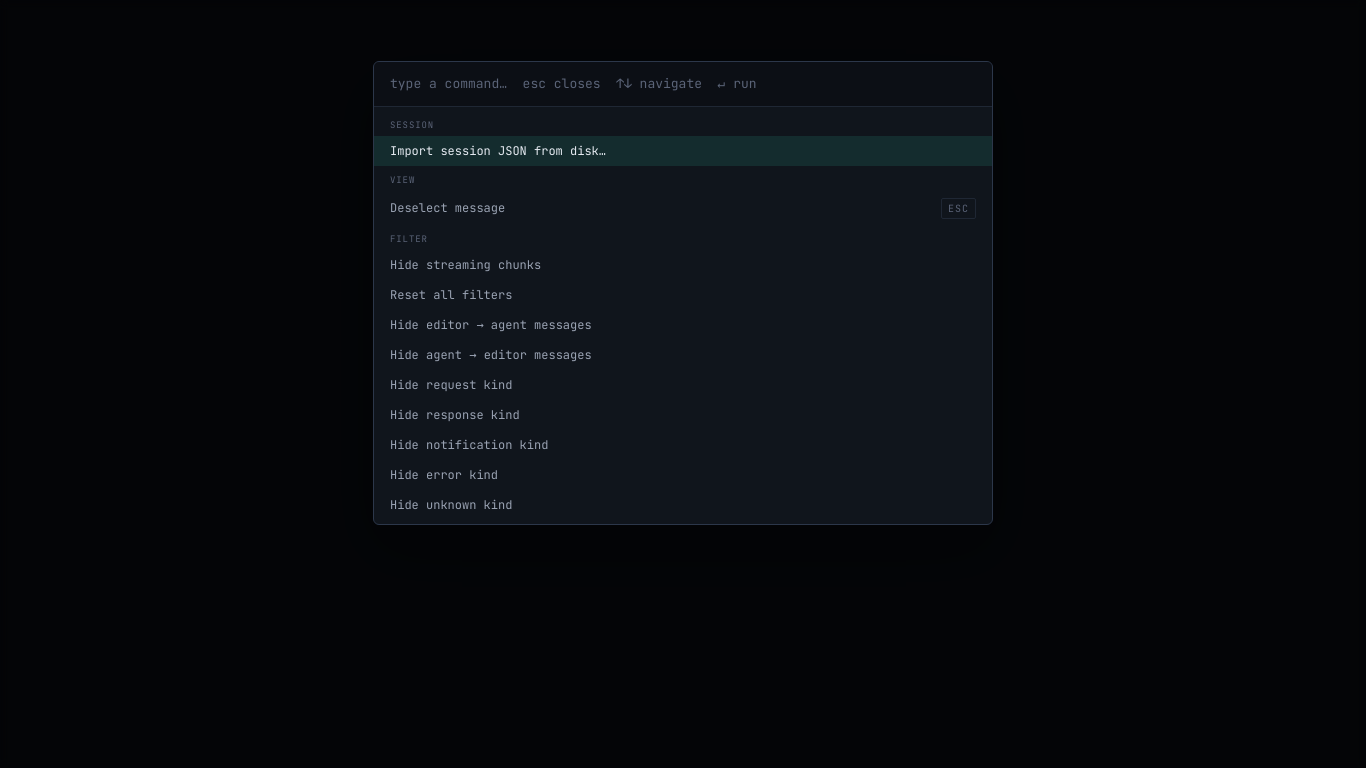
Test: CommandPalette › shows "no match" when nothing matches
This screenshot has width=1366, height=768.
Type "zzzzzzz" into the field with placeholder "type a command… esc closes ↑↓ navigate ↵ run" at (683, 84), box [374, 62, 992, 106]
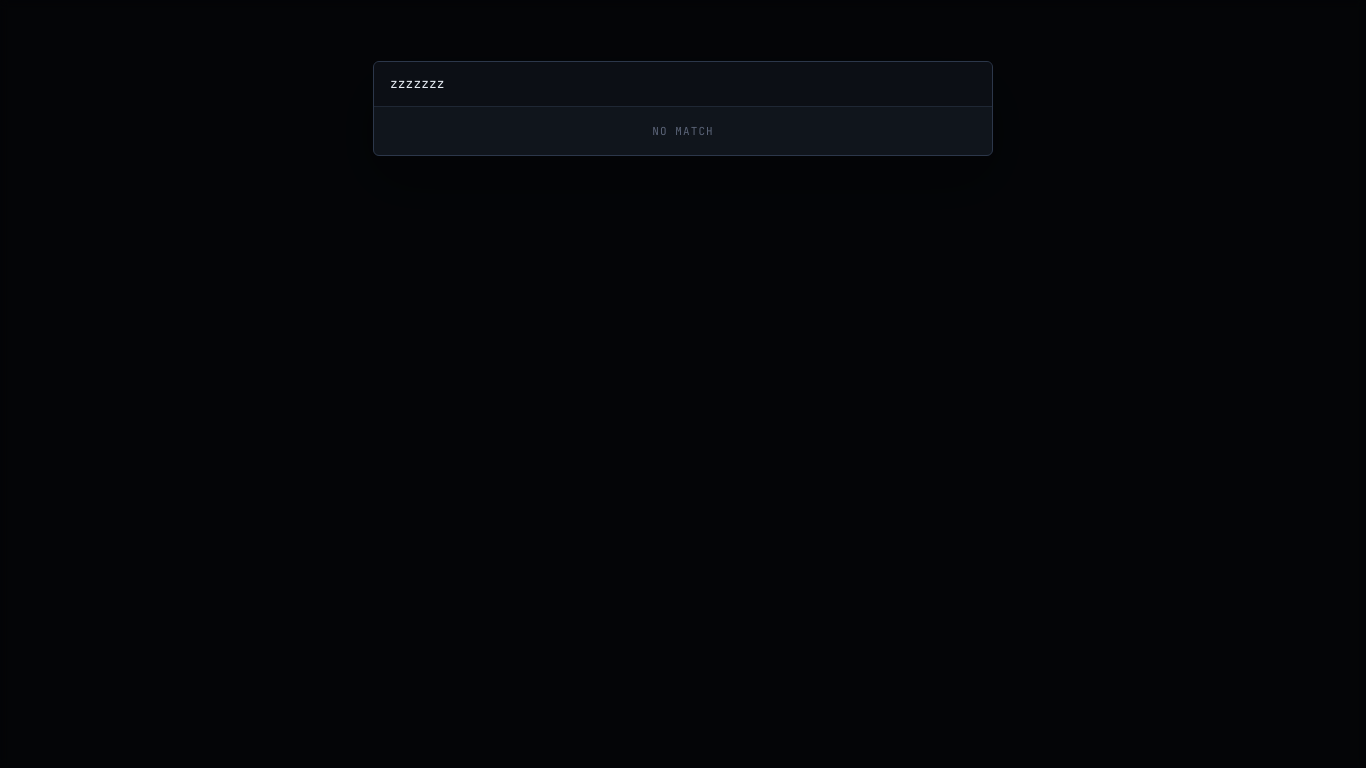
Expected: the list item "no match" is shown, [652, 124, 714, 138]
